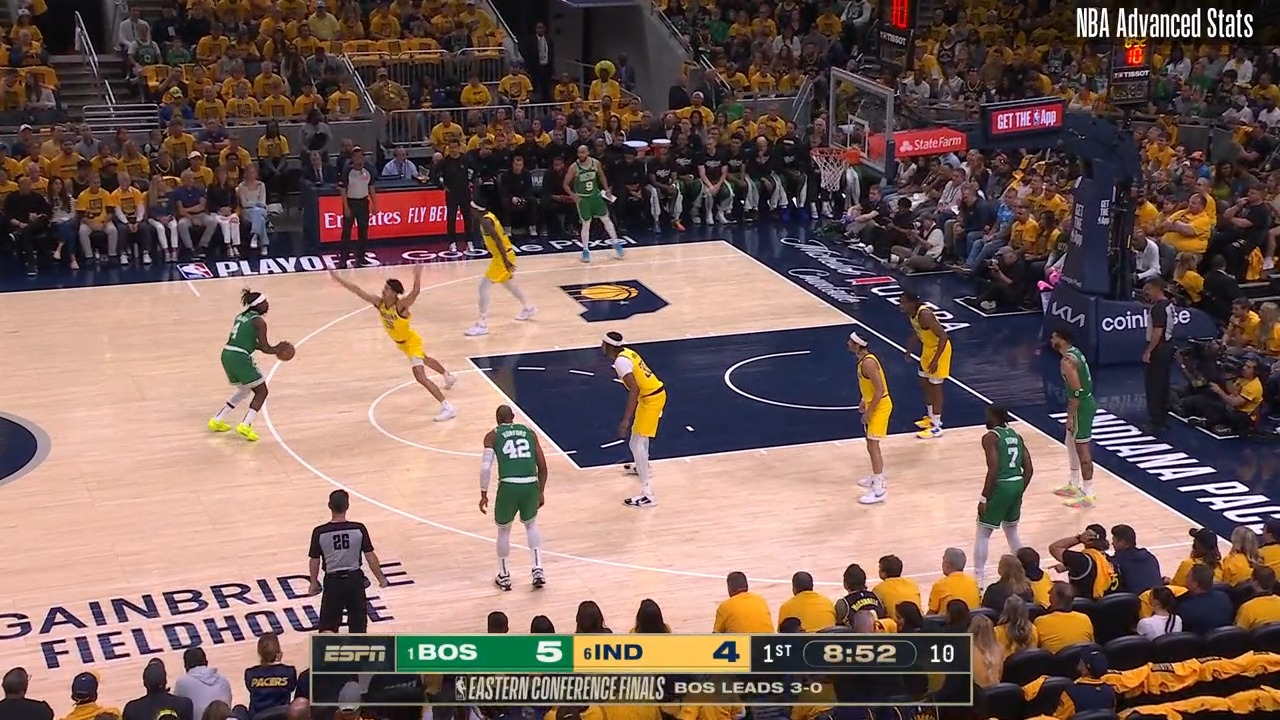basketball: (273, 341, 298, 365)
